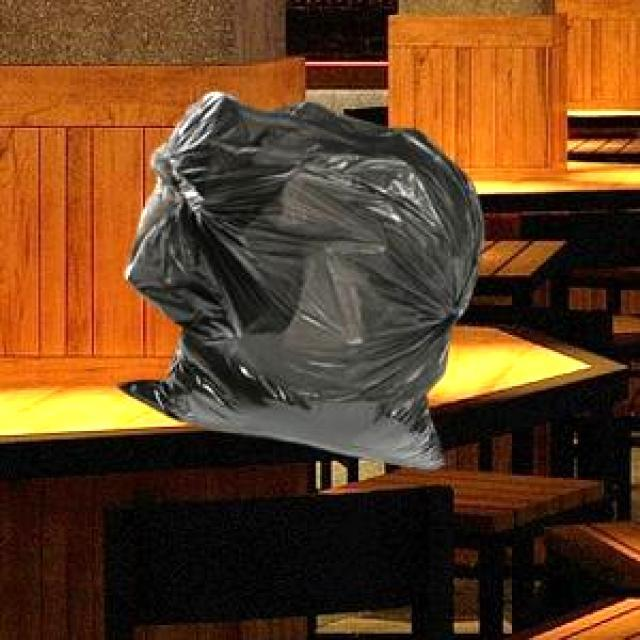Garbage_Bag: (122, 90, 482, 400), (114, 325, 447, 466)
